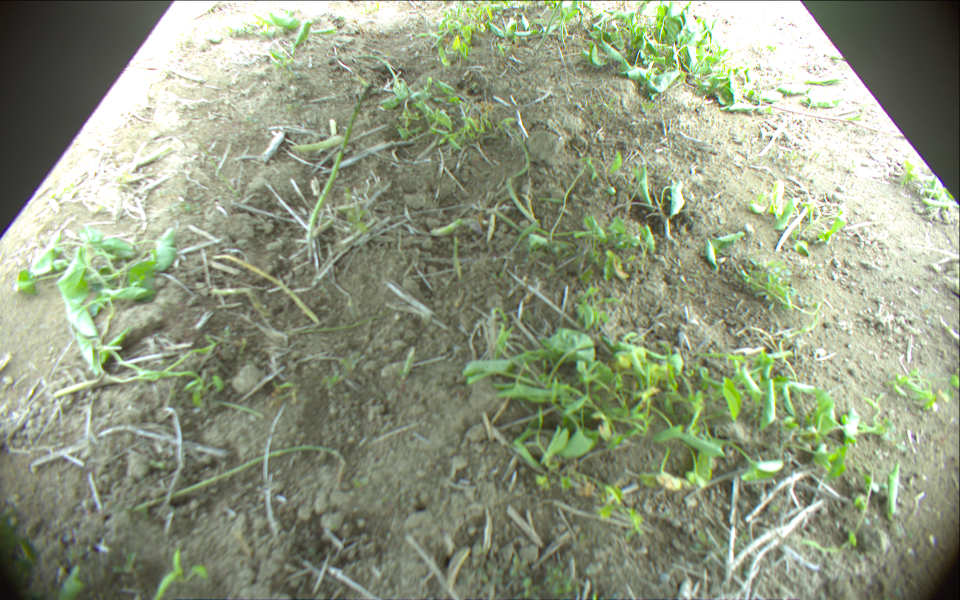aspa: (307, 82, 373, 250), (352, 53, 399, 86), (536, 1, 564, 51), (557, 1, 567, 42)
